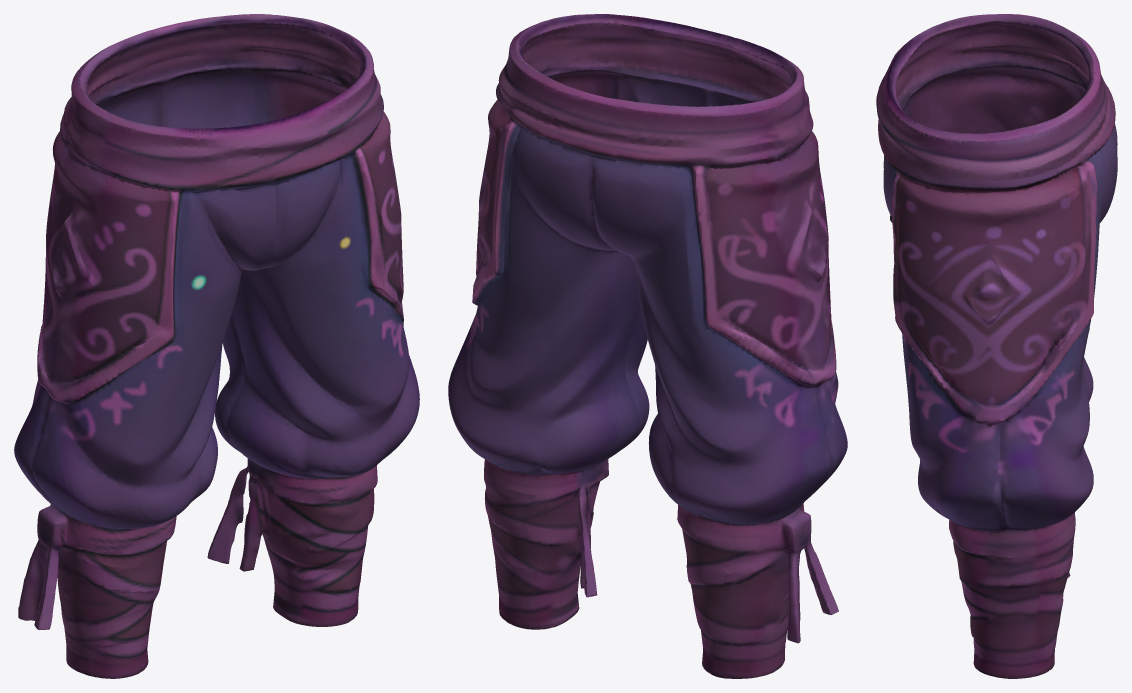
The model's file is calca-mago.glb.
3 views of the same model, side by side, from view 1: azimuth 30°, elevation 25°; view 2: azimuth 150°, elevation 25°; view 3: azimuth 270°, elevation 25° (orthographic). The views are drawn at different scales.
Parts seen in each view (by area): view 1: tripo_node_348cfa14-4567-48c2-84bf-d45ecf17947c.001; view 2: tripo_node_348cfa14-4567-48c2-84bf-d45ecf17947c.001; view 3: tripo_node_348cfa14-4567-48c2-84bf-d45ecf17947c.001.
Part boxes in pixels (left/top/right/bottom): tripo_node_348cfa14-4567-48c2-84bf-d45ecf17947c.001: left=14, top=14, right=419, bottom=678; tripo_node_348cfa14-4567-48c2-84bf-d45ecf17947c.001: left=448, top=14, right=847, bottom=678; tripo_node_348cfa14-4567-48c2-84bf-d45ecf17947c.001: left=876, top=14, right=1117, bottom=678.
Bounding box in the file's own units: 0.1897 × 0.2801 × 0.112.
Materials: 1 (1 with a texture image).
